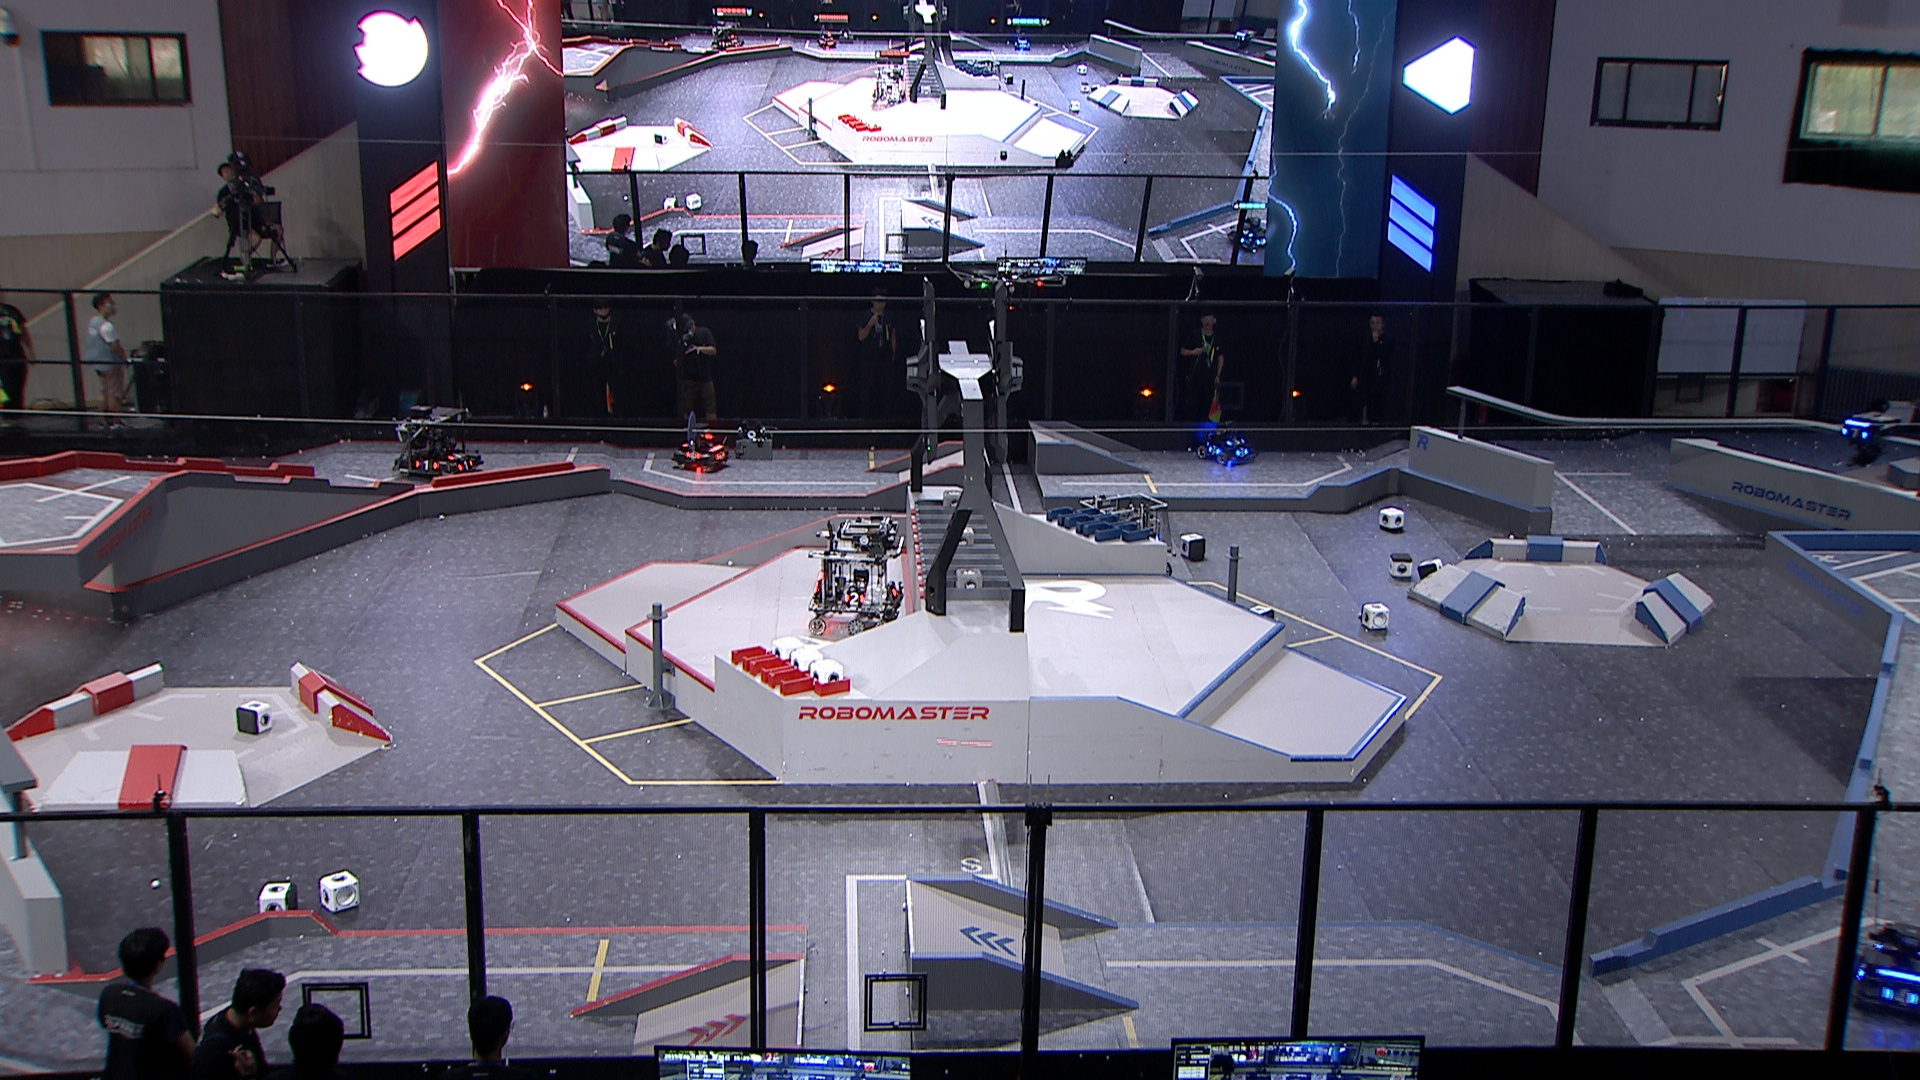armor: (1878, 981, 1920, 1011), (410, 458, 443, 475), (1841, 425, 1869, 443), (843, 589, 866, 607), (454, 455, 477, 472), (443, 448, 469, 463), (1224, 433, 1247, 447), (683, 447, 704, 463), (1233, 446, 1253, 458), (1207, 443, 1222, 458), (713, 450, 731, 462)
car: (802, 517, 906, 644), (1077, 493, 1172, 580), (1846, 920, 1920, 1021), (390, 400, 481, 480), (667, 419, 735, 476), (1196, 417, 1254, 469)
ignore: (1222, 210, 1269, 253), (873, 63, 909, 105), (969, 51, 1007, 90), (707, 21, 744, 51), (1233, 25, 1258, 55), (1011, 32, 1034, 51), (818, 29, 836, 51)
watcher: (1840, 405, 1898, 471)
